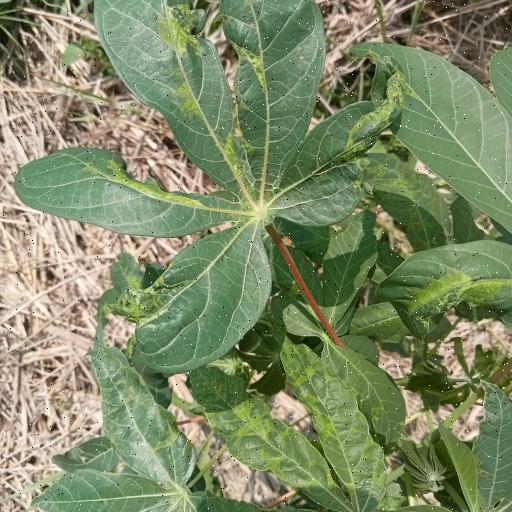Cassava_Mosaic: (24, 4, 380, 372)
